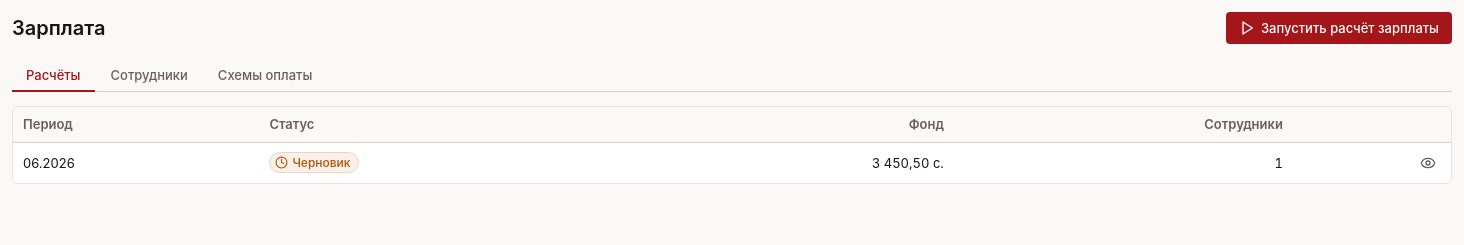
Test: PayrollPage › список расчётов: период, статус, фонд; детали открываются, для draft есть кнопка Утвердить
Expected: the text "06.2026" is shown, [13,142,259,183]
Expected: the text "Черновик" is shown, [269,152,360,173]
Click the button named "Просмотр" at (1428,163), box [1415,150,1441,176]
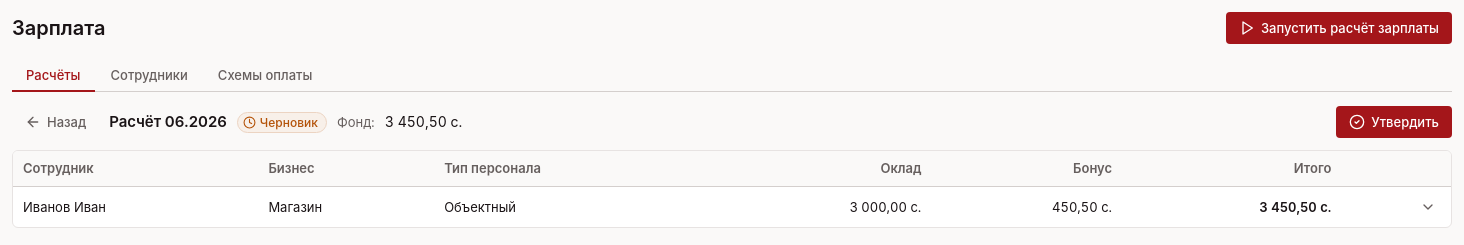
Now the text "Иванов Иван" is shown, box [13,187,258,227]
Now the button "Утвердить" is shown, box [1336,106,1452,138]
